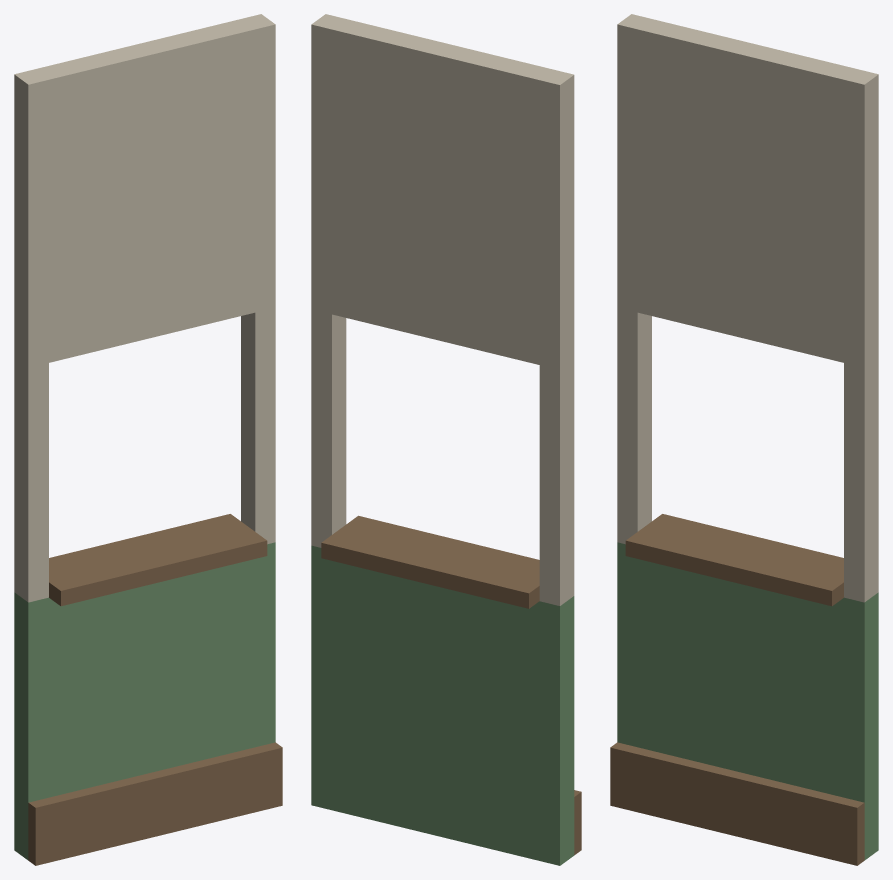
The model's file is Mesh_WallBaseboard2Colors_E2.fbx.
3 renders of one model, left to right at view 1: azimuth 30°, elevation 25°; view 2: azimuth 150°, elevation 25°; view 3: azimuth 330°, elevation 25°, orthographic.
Parts seen in each view (by area): view 1: Mesh_WallBaseboard2Colors_E2; view 2: Mesh_WallBaseboard2Colors_E2; view 3: Mesh_WallBaseboard2Colors_E2.
Boxes of the visible parts, x1,y1,x2,y2 form: Mesh_WallBaseboard2Colors_E2: (14, 14, 282, 865); Mesh_WallBaseboard2Colors_E2: (311, 14, 581, 865); Mesh_WallBaseboard2Colors_E2: (610, 14, 878, 865).
Bounding box in the file's own units: 1 × 3 × 0.2574.
